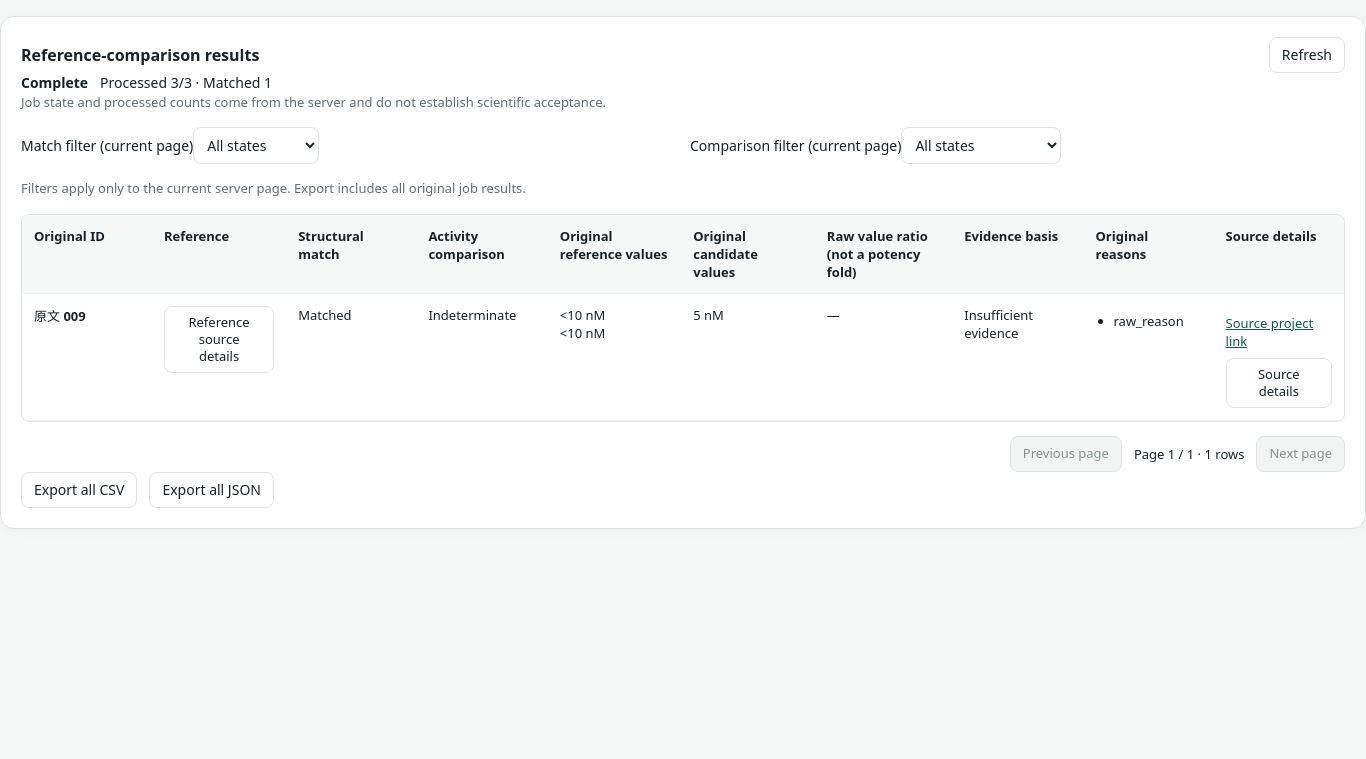
Test case: truthful reference comparisons › loads source provenance on demand rather than guessing a result page
Check: the column heading "原文 009" is shown, box left=22, top=293, right=152, bottom=420
Click the button "Reference source details" at (219, 339), box left=164, top=306, right=274, bottom=373
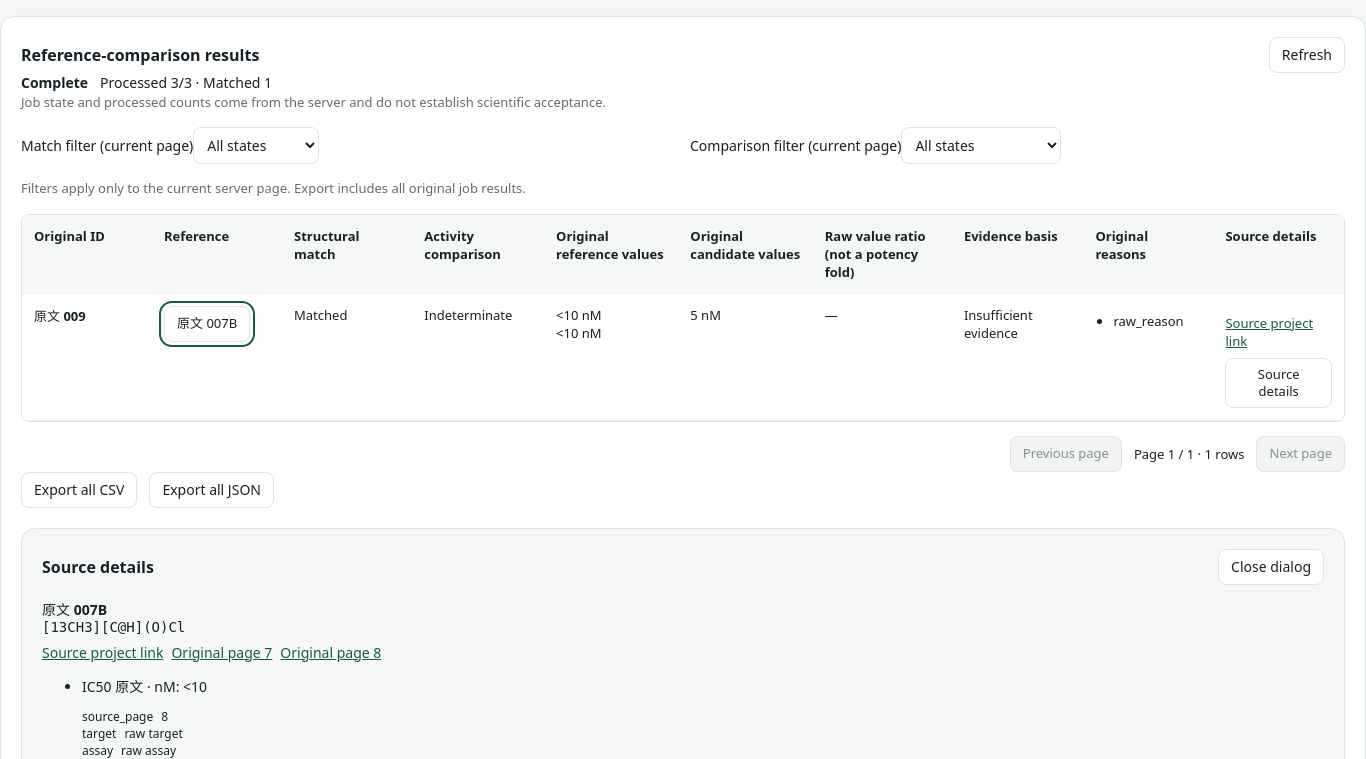
Check: the text "raw target" is shown, box left=124, top=725, right=183, bottom=742
